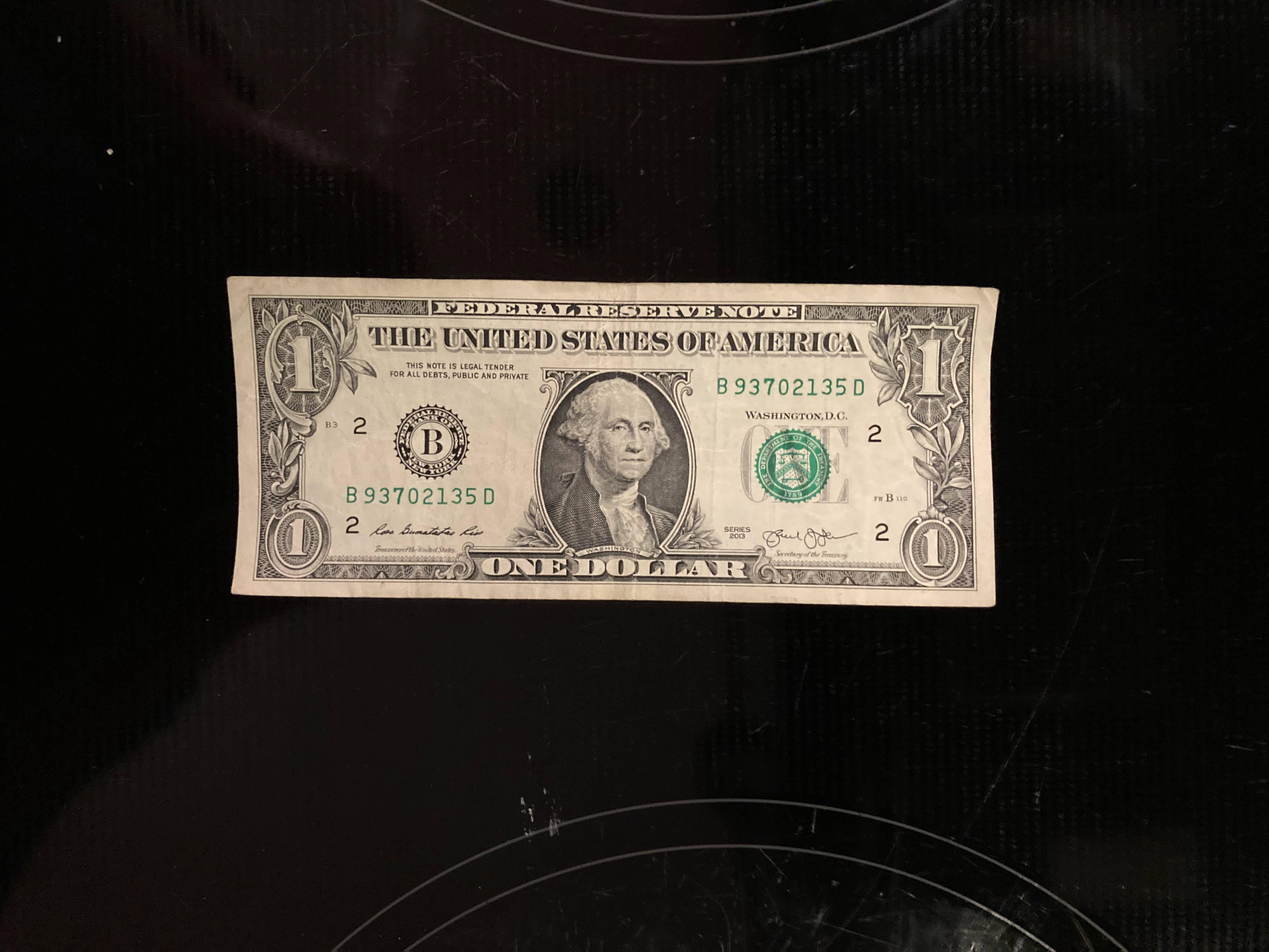one-front: (223, 275, 999, 607)
